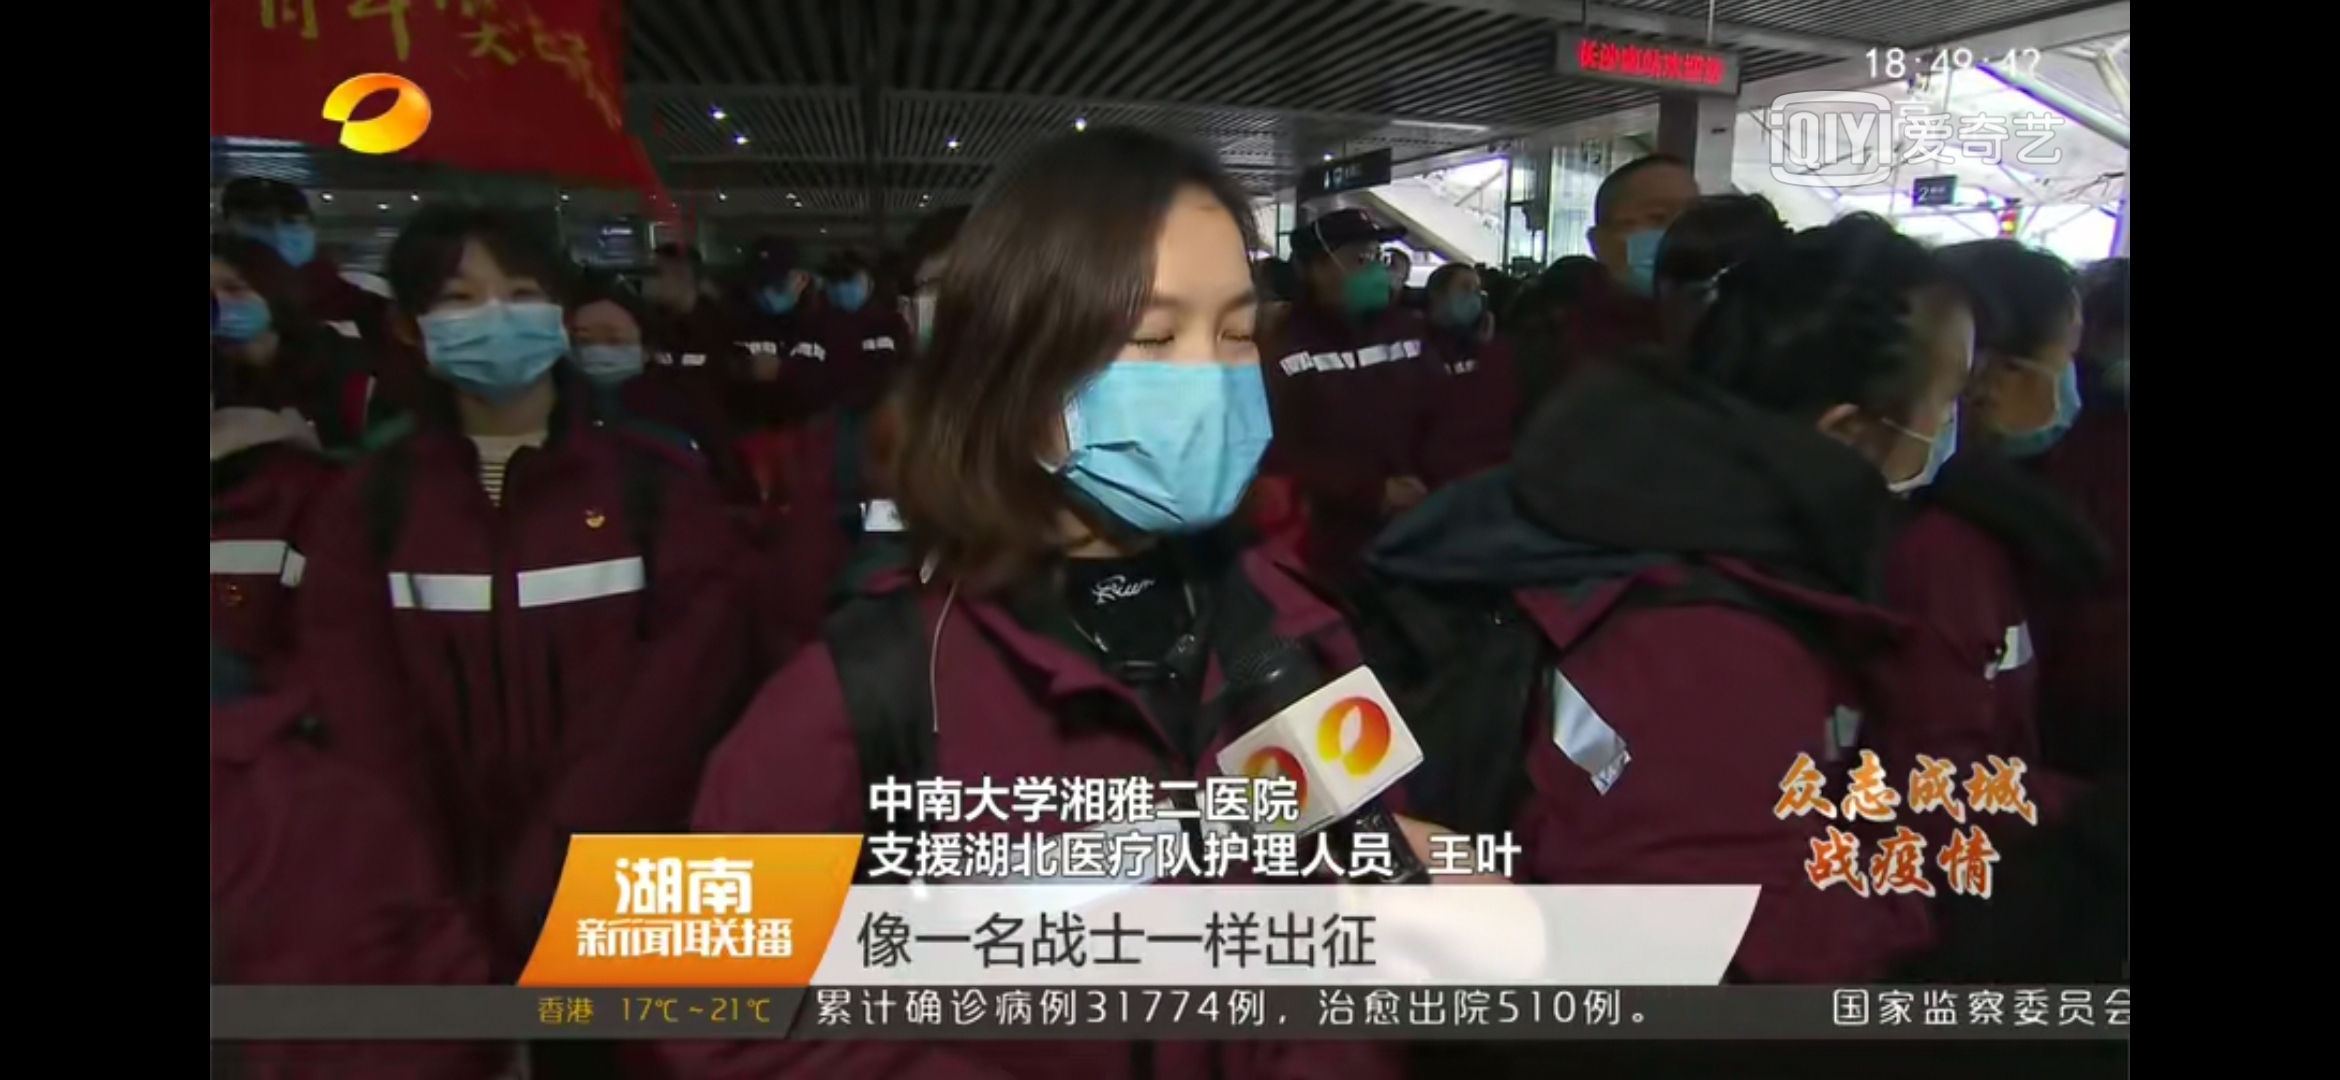correctlyWear: (1045, 283, 1283, 559), (1824, 360, 1965, 506), (419, 269, 567, 406), (1974, 331, 2089, 474), (1586, 178, 1673, 298), (1316, 243, 1394, 322), (572, 318, 649, 395), (206, 277, 278, 357), (234, 207, 318, 271), (1433, 276, 1485, 333), (749, 270, 810, 318), (824, 274, 872, 316)
